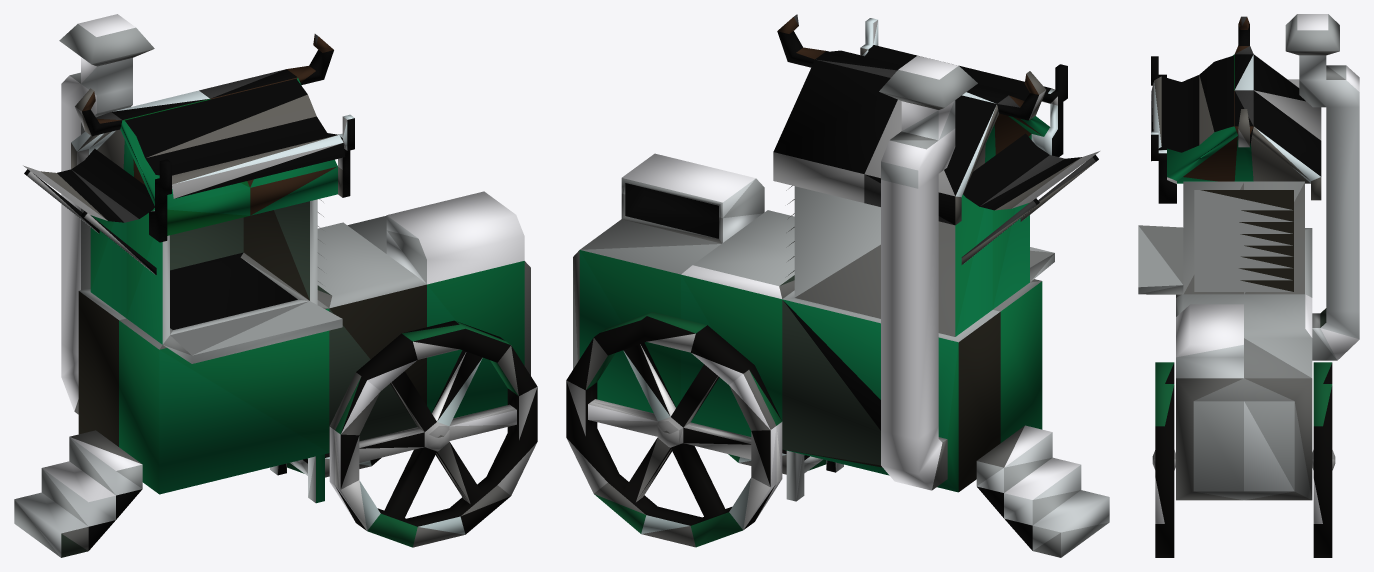
The picture shows the model from 3 angles, left to right: view 1: azimuth 30°, elevation 25°; view 2: azimuth 150°, elevation 25°; view 3: azimuth 270°, elevation 25°; orthographic projection. The views are drawn at different scales.
Visible parts, largest first — view 1: cart, roof, wheel_1; view 2: cart, roof, wheel_2; view 3: cart, roof, wheel_2, wheel_1.
Part boxes in pixels (x1,y1,x2,y2): cart: (14, 14, 530, 557); roof: (23, 34, 354, 275); wheel_1: (329, 320, 537, 547); cart: (573, 55, 1109, 557); roof: (773, 14, 1099, 264); wheel_2: (566, 312, 782, 547); cart: (1138, 14, 1359, 500); roof: (1151, 16, 1321, 203); wheel_2: (1312, 362, 1335, 557); wheel_1: (1152, 362, 1175, 557).
Size of the model in its own units: 2.3 by 2.4 by 1.13.
